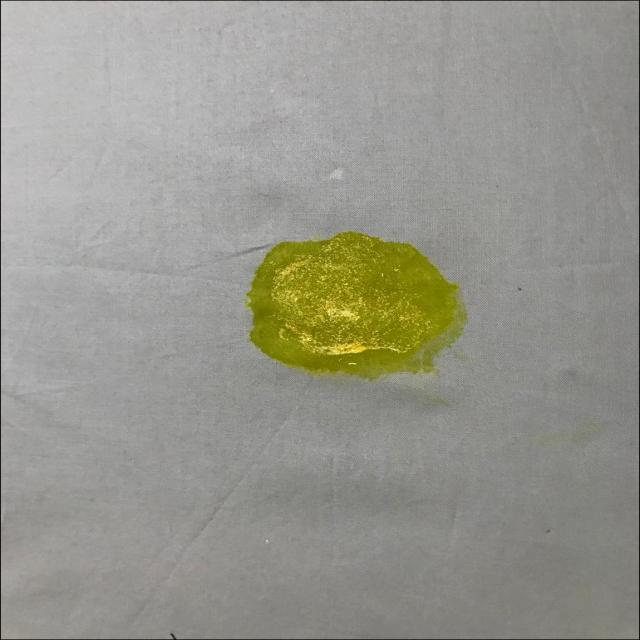Stain: (247, 232, 465, 378)
